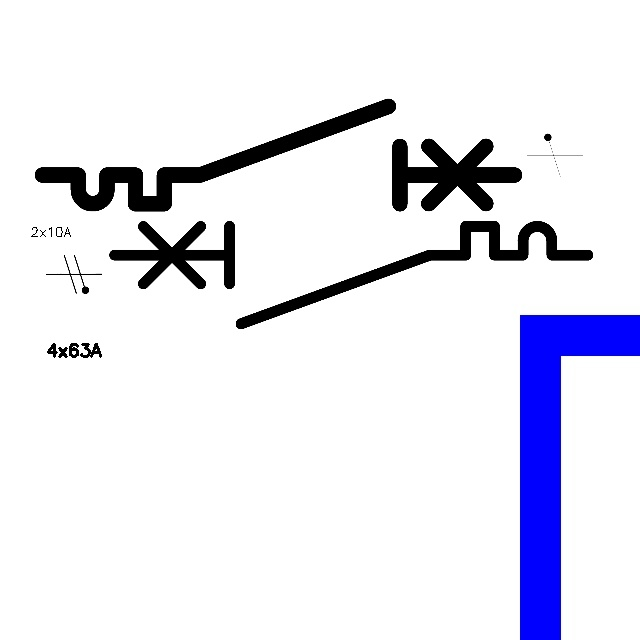interruptor_termomagnetico: (102, 214, 600, 336), (30, 94, 527, 216)
